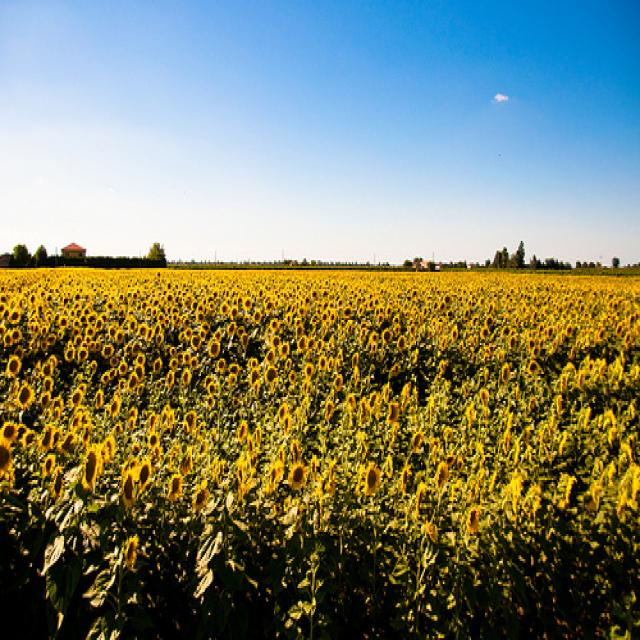sunflower: (82, 446, 96, 493), (288, 464, 307, 491), (192, 486, 210, 514), (16, 384, 33, 411), (365, 464, 379, 496), (385, 400, 401, 427), (137, 460, 151, 490), (434, 460, 448, 490), (1, 420, 17, 444), (168, 473, 181, 502), (498, 362, 512, 388), (38, 361, 54, 382), (123, 470, 133, 503), (467, 508, 479, 533), (264, 366, 279, 386), (126, 371, 139, 394), (8, 356, 21, 378), (71, 386, 83, 409), (524, 359, 540, 375), (44, 455, 55, 478), (110, 394, 120, 419), (207, 340, 219, 360), (333, 374, 344, 395), (41, 391, 51, 414), (184, 411, 195, 431), (324, 399, 334, 420), (278, 402, 288, 423), (381, 329, 393, 346), (102, 344, 115, 358), (95, 392, 104, 412), (397, 335, 407, 353), (181, 368, 191, 386), (508, 334, 518, 352), (532, 342, 542, 360), (191, 335, 202, 351), (614, 322, 625, 337), (304, 364, 314, 380), (295, 325, 305, 340), (155, 333, 164, 349), (485, 314, 493, 332), (150, 433, 158, 450), (207, 382, 215, 399), (138, 324, 148, 337), (272, 333, 280, 349), (317, 337, 324, 353), (119, 362, 128, 374), (443, 294, 452, 306), (566, 324, 574, 337), (78, 348, 87, 359), (282, 344, 288, 360), (319, 358, 326, 371), (343, 308, 352, 317)
